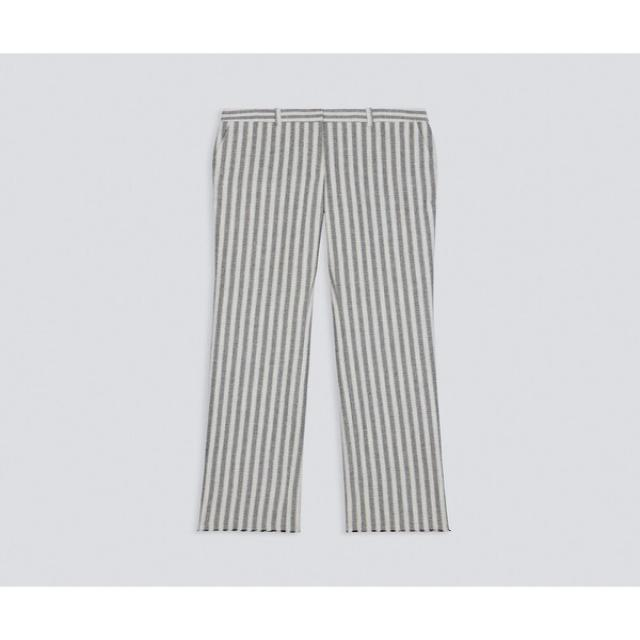long-pants: (196, 109, 451, 537)
